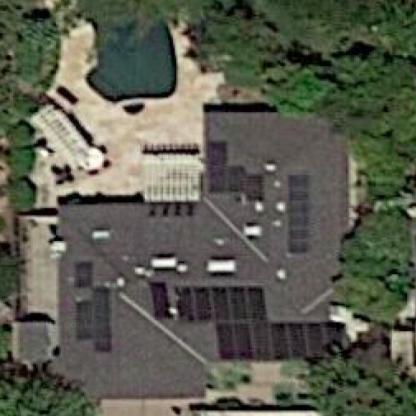solar_panel: (153, 273, 353, 369), (66, 251, 124, 367), (206, 135, 271, 214), (281, 162, 318, 263)
swimming_pool: (75, 5, 192, 122)
